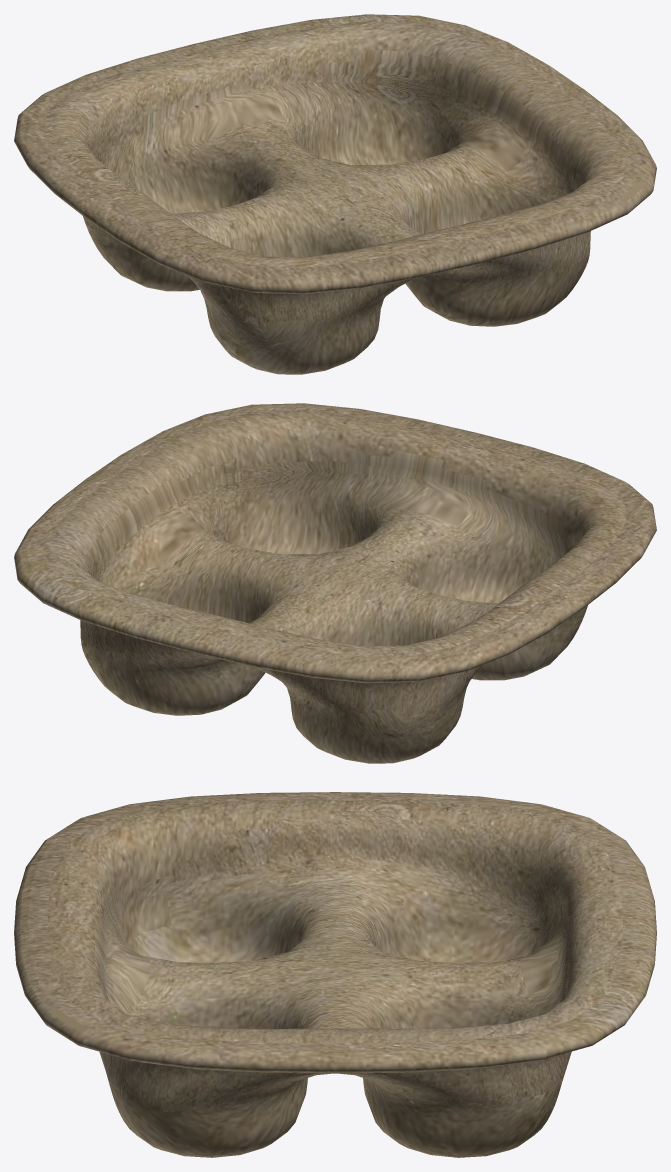
The model's file is Cardboard.fbx.
3 views of the same model, one above another, from view 1: azimuth 30°, elevation 25°; view 2: azimuth 150°, elevation 25°; view 3: azimuth 270°, elevation 25° (orthographic). The views are drawn at different scales.
Parts seen in each view (by area): view 1: Cube; view 2: Cube; view 3: Cube.
Boxes of the visible parts, x1,y1,x2,y2 form: Cube: (14,14,656,374); Cube: (14,403,656,763); Cube: (14,792,656,1157).
Size of the model in its own units: 1.04 by 0.2957 by 1.04.
Materials: 1 (1 with a texture image).
